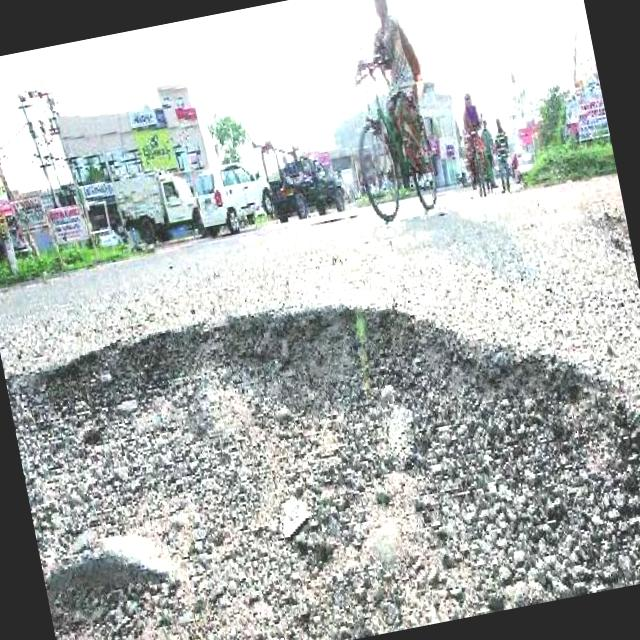pothole: (1, 233, 640, 640)
